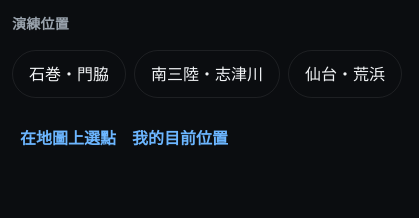
Test: shows a clear message when the point is outside Japan municipalities
The width and height of the screenshot is (419, 218).
Click the button "石巻・門脇" at coordinates (69, 74), box x1=12 y1=50 x2=126 y2=98
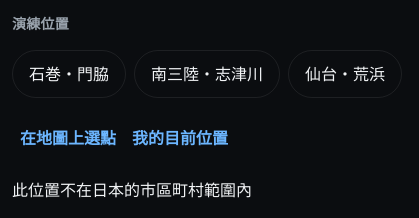
Check: the text "此位置不在日本的市區町村範圍內" is shown, box x1=12 y1=179 x2=252 y2=201
